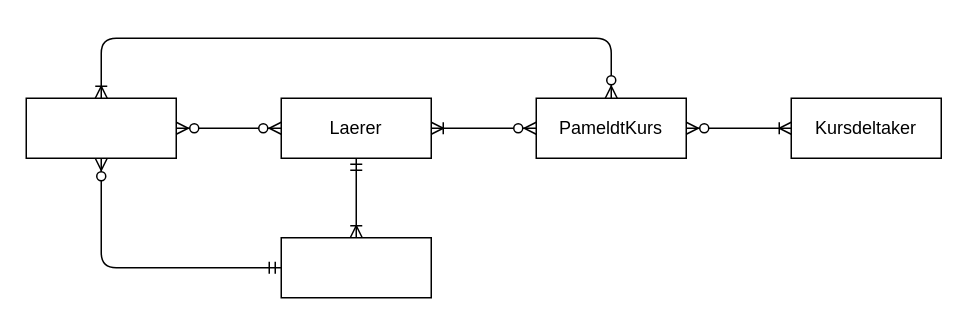
Some shapes in this 968 by 324 pixel diagram are drawn without their labels. The centre of each missing label's shape, as x and y in pixels:
"Fag" goes at point 355,267.
"Kurstilbud" goes at point 100,127.
